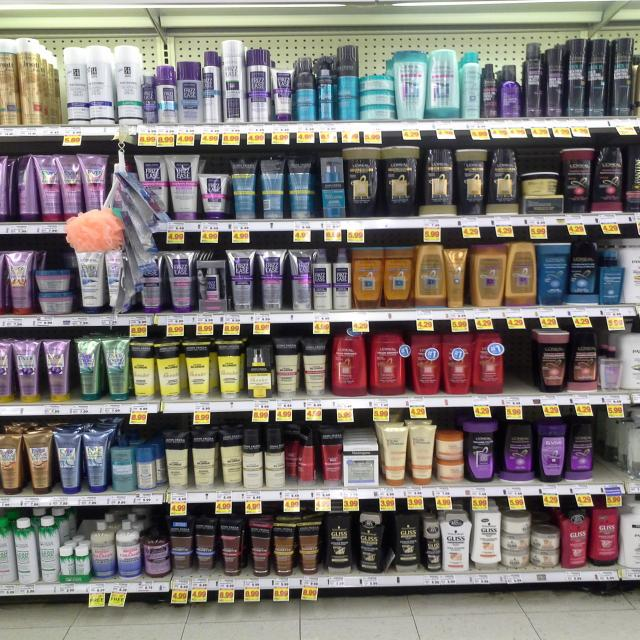unorganised: (285, 429, 317, 487), (14, 155, 39, 221)
